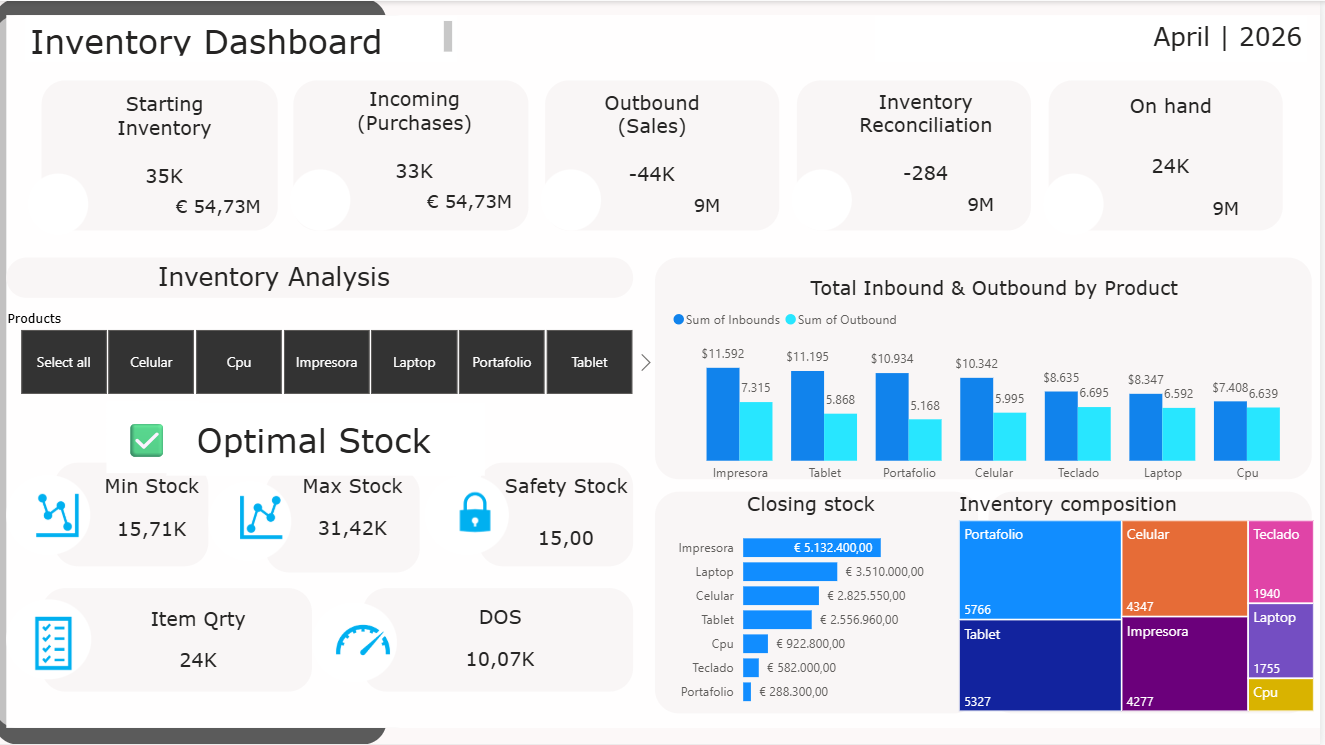

Layout of this report page (visuals, bound fields, positions):
{"tool":"powerbi","page":{"name":"Page 1","canvas":[1280,720],"ordinal":0},"visuals":[{"type":"cardVisual","title":"Starting Inventory","fields":{"Data":["Sum(Registro_Entradas_Salidas.Entradas (inv.))"]},"box":[86.5,87.9,155.7,109.5],"z":0},{"type":"cardVisual","title":"Starting Inventory","fields":{"Data":["Sum(Registro_Entradas_Salidas.Costos de entrada)"]},"box":[128.3,168.6,177.3,57.7],"z":1000},{"type":"cardVisual","title":"Incoming (Purchases)","fields":{"Data":["Sum(Registro_Entradas_Salidas.Entradas (inv.))"]},"box":[328.3,83.7,155.7,109.5],"z":2000},{"type":"cardVisual","title":"Starting Inventory","fields":{"Data":["Sum(Registro_Entradas_Salidas.Costos de entrada)"]},"box":[370.1,164.4,177.3,57.7],"z":3000},{"type":"cardVisual","title":"Outbound (Sales)","fields":{"Data":["Sum(Registro_Entradas_Salidas.Existencia)"]},"box":[557.3,86.6,155.7,109.5],"z":4000},{"type":"cardVisual","title":"Starting Inventory","fields":{"Data":["Sum(Registro_Entradas_Salidas.Costo neto)"]},"box":[599.1,167.3,177.3,57.7],"z":5000},{"type":"cardVisual","title":"Inventory Reconciliation","fields":{"Data":["Sum(Registro_Entradas_Salidas.Existencia)"]},"box":[821.9,85.2,155.7,109.5],"z":6000},{"type":"cardVisual","title":"Starting Inventory","fields":{"Data":["Sum(Registro_Entradas_Salidas.Costo neto)"]},"box":[863.7,165.9,177.3,57.7],"z":7000},{"type":"cardVisual","title":"On hand","fields":{"Data":["Sum(Registro_Entradas_Salidas.Existencia)"]},"box":[1058,89.5,155.7,109.5],"z":8000},{"type":"cardVisual","title":"Starting Inventory","fields":{"Data":["Sum(Registro_Entradas_Salidas.Costo neto)"]},"box":[1099.8,170.2,177.3,57.7],"z":9000},{"type":"cardVisual","title":"Min Stock","fields":{"Data":["Registro_Entradas_Salidas.Min Stock"]},"box":[86.5,455.5,131.2,79.3],"z":10000},{"type":"cardVisual","title":"Max Stock","fields":{"Data":["Registro_Entradas_Salidas.Max Stock"]},"box":[269.5,455.5,154.2,75],"z":11000},{"type":"cardVisual","title":"Safety Stock","fields":{"Data":["Registro_Entradas_Salidas.Safety Stock"]},"box":[464.1,455.5,175.9,93.7],"z":12000},{"type":"cardVisual","title":"Item Qrty","fields":{"Data":["Registro_Entradas_Salidas.Item Qty"]},"box":[108.1,585.2,177.3,72.1],"z":13000},{"type":"cardVisual","title":"DOS","fields":{"Data":["Registro_Entradas_Salidas.DOS"]},"box":[406.5,582.3,164.3,75],"z":14000},{"type":"slicer","fields":{"Values":["Promedio_Consumo_Ventas.Productos"]},"box":[0,294.1,640,92.1],"z":15000},{"type":"image","box":[433.9,468.5,60.5,50.5],"z":16000},{"type":"image","box":[30.7,468.7,61.4,56.6],"z":17000},{"type":"image","box":[229.5,467.1,56.6,63],"z":18000},{"type":"image","box":[30.3,588.1,54.8,64.9],"z":19000},{"type":"image","box":[328.6,585.2,56.2,62],"z":20000},{"type":"cardVisual","fields":{"Data":["Registro_Entradas_Salidas.Estatus"]},"box":[166.5,387.9,307.1,69.5],"z":21000},{"type":"cardVisual","fields":{"Data":["Registro_Entradas_Salidas.Estatus Emoji"]},"box":[108.3,386.3,88.9,69.5],"z":22000},{"type":"textbox","box":[153.5,245.7,315.2,66.3],"z":23000},{"type":"clusteredColumnChart","title":"Total Inbound & Outbound by Product","fields":{"Category":["Registro_Entradas_Salidas.Productos"],"Y":["Sum(Registro_Entradas_Salidas.Entradas (inv.))","Sum(Registro_Entradas_Salidas.Salidas (inv.))"]},"box":[649.7,265.1,630.3,208.5],"z":24000},{"type":"clusteredBarChart","title":"Closing stock","fields":{"Category":["Registro_Entradas_Salidas.Productos"],"Y":["Registro_Entradas_Salidas.Ending Inventory"]},"box":[649.7,473.5,276.4,216.6],"z":25000},{"type":"treemap","title":"Inventory composition","fields":{"Group":["Registro_Entradas_Salidas.Productos"],"Values":["Registro_Entradas_Salidas.Item Qty"]},"box":[926.1,473.5,352.3,216.6],"z":26000},{"type":"textbox","box":[30.7,14.5,417,43.6],"z":27000},{"type":"textbox","box":[850.1,14.5,417,43.6],"z":28000}]}

Visuals, with their boxes in screenshot pixels (x1, y1, x2, y2), scaled from the page's 1280x720 canvas onto the 1325x745 screenshot:
"Starting Inventory" cardVisual: rect(90, 91, 251, 204)
"Starting Inventory" cardVisual: rect(133, 174, 316, 234)
"Incoming (Purchases)" cardVisual: rect(340, 87, 501, 200)
"Starting Inventory" cardVisual: rect(383, 170, 567, 230)
"Outbound (Sales)" cardVisual: rect(577, 90, 738, 203)
"Starting Inventory" cardVisual: rect(620, 173, 804, 233)
"Inventory Reconciliation" cardVisual: rect(851, 88, 1012, 201)
"Starting Inventory" cardVisual: rect(894, 172, 1078, 231)
"On hand" cardVisual: rect(1095, 93, 1256, 206)
"Starting Inventory" cardVisual: rect(1138, 176, 1322, 236)
"Min Stock" cardVisual: rect(90, 471, 225, 553)
"Max Stock" cardVisual: rect(279, 471, 439, 549)
"Safety Stock" cardVisual: rect(480, 471, 662, 568)
"Item Qrty" cardVisual: rect(112, 606, 295, 680)
"DOS" cardVisual: rect(421, 603, 591, 680)
slicer - Promedio_Consumo_Ventas.Productos: rect(0, 304, 662, 400)
image: rect(449, 485, 512, 537)
image: rect(32, 485, 95, 544)
image: rect(238, 483, 296, 549)
image: rect(31, 609, 88, 676)
image: rect(340, 606, 398, 670)
cardVisual - Registro_Entradas_Salidas.Estatus: rect(172, 401, 490, 473)
cardVisual - Registro_Entradas_Salidas.Estatus Emoji: rect(112, 400, 204, 472)
textbox: rect(159, 254, 485, 323)
"Total Inbound & Outbound by Product" clusteredColumnChart: rect(673, 274, 1324, 490)
"Closing stock" clusteredBarChart: rect(673, 490, 959, 714)
"Inventory composition" treemap: rect(959, 490, 1323, 714)
textbox: rect(32, 15, 463, 60)
textbox: rect(880, 15, 1312, 60)
